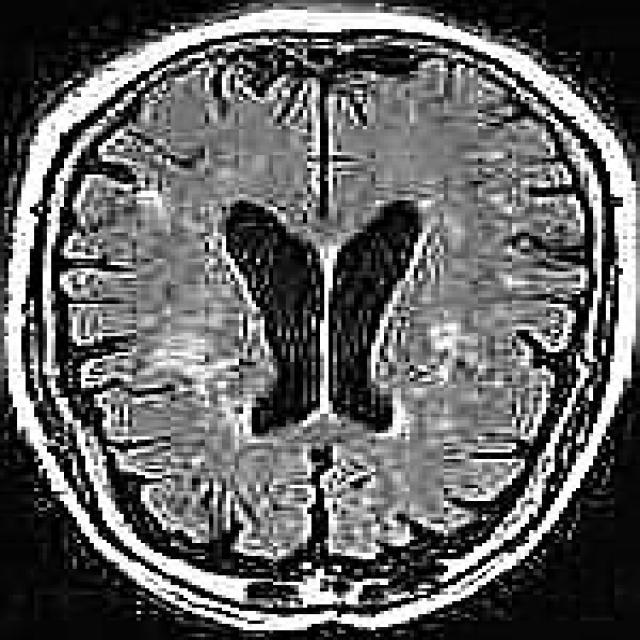notumor: (13, 10, 636, 634)
